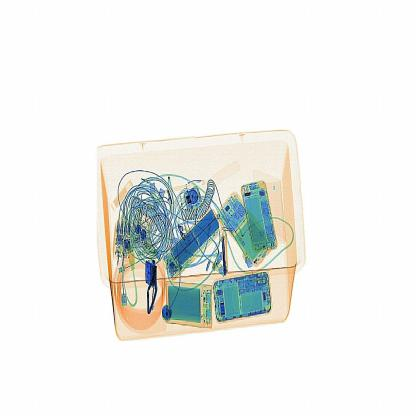wrench: (214, 221, 234, 280)
